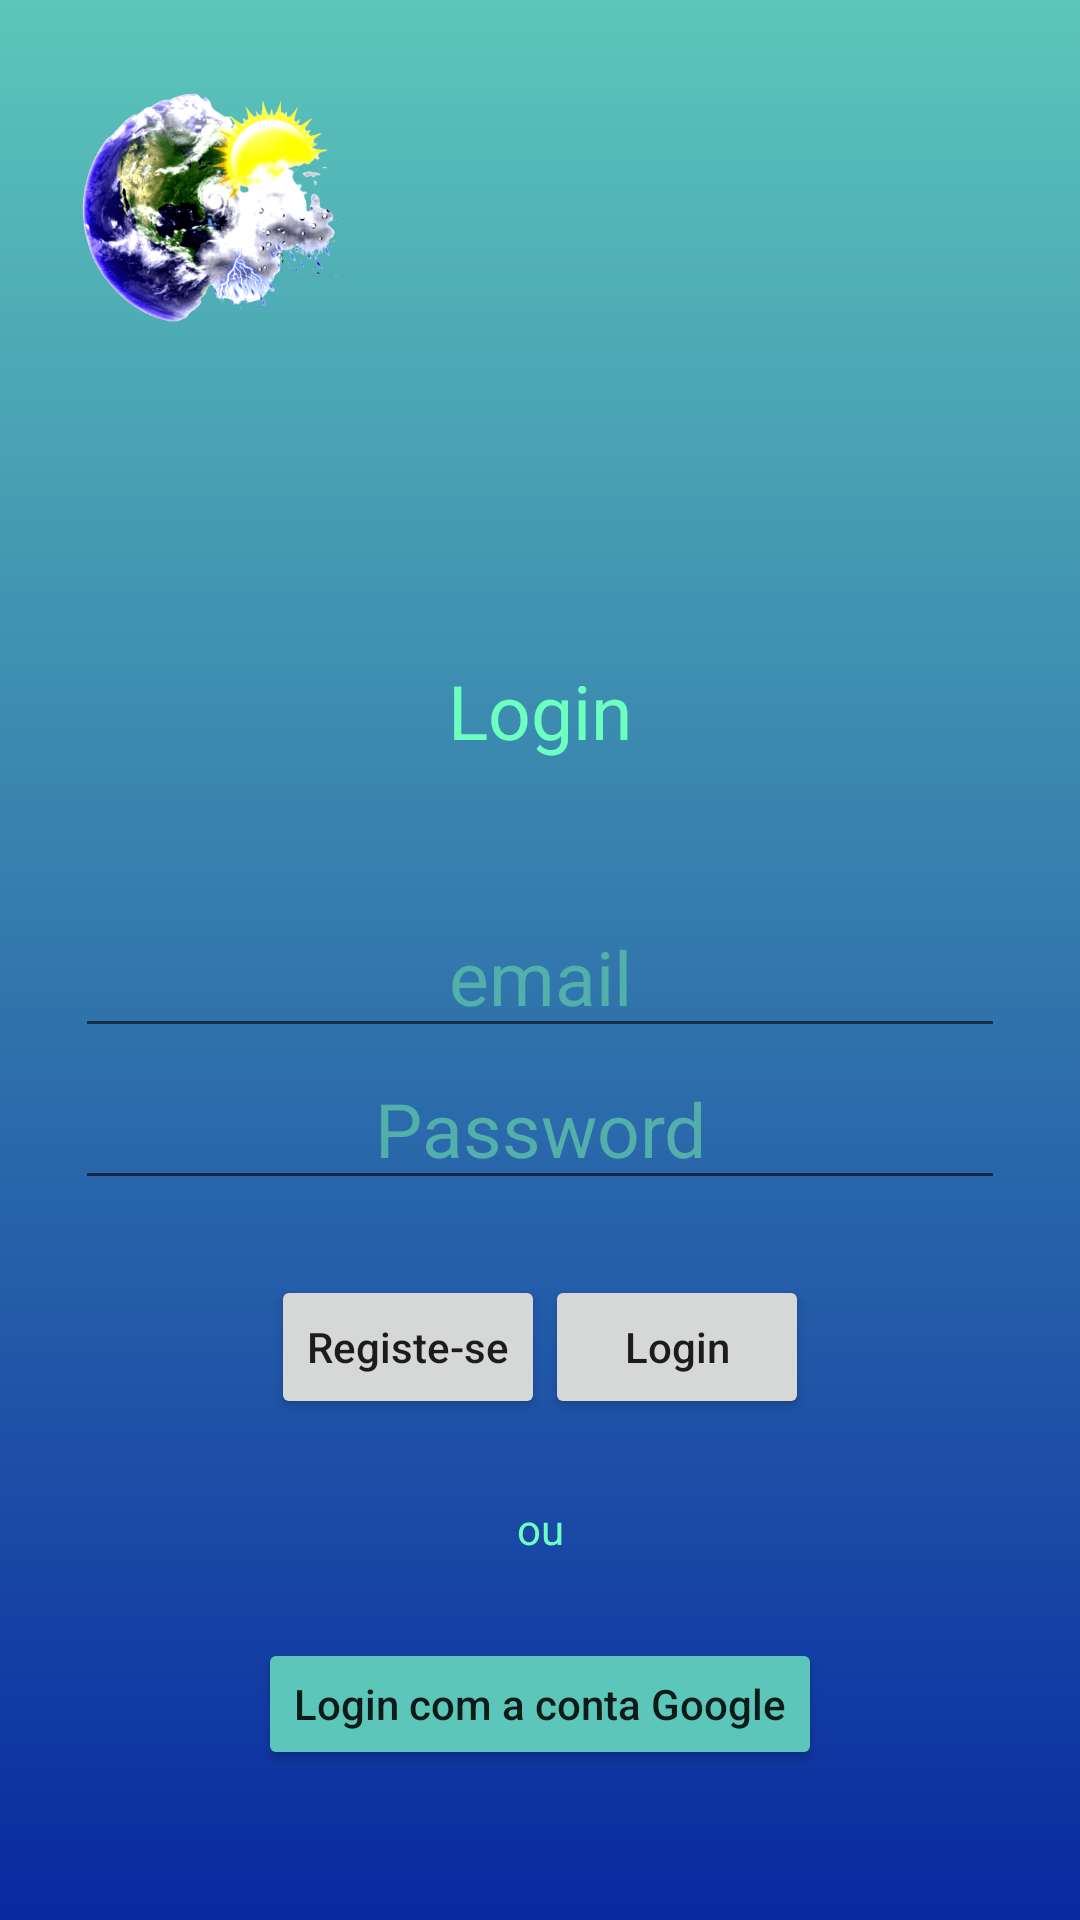

Where to tap for icons on this 1080 x 1920 app screen, as (x=x, y=y):
clima: (x=210, y=207)
